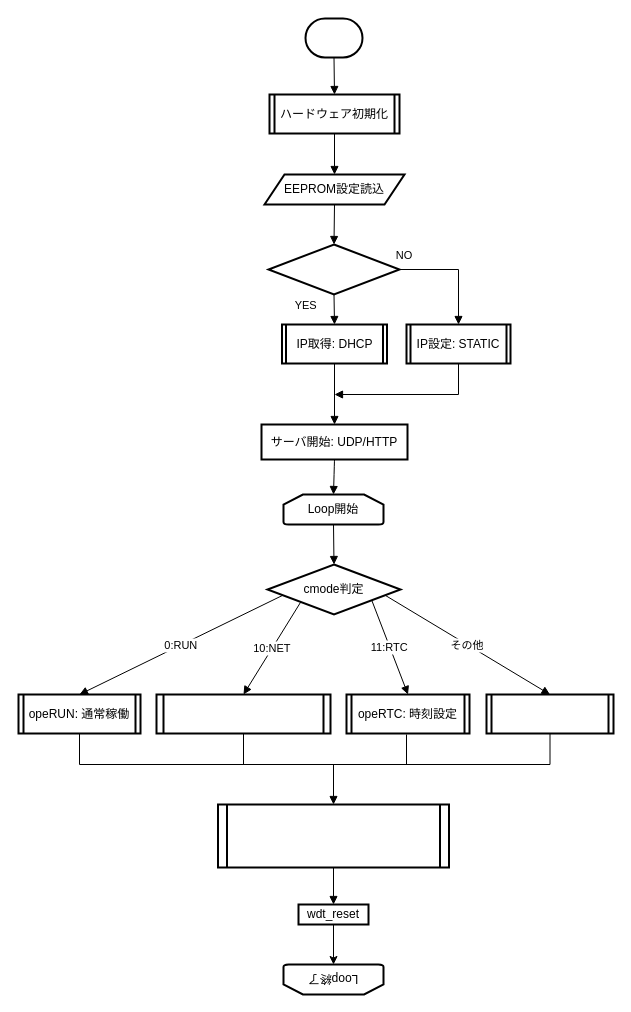
Image size: 631x1012. Some labels were removed from this diagram. Here are the shapes that lost their labels. From the top down, the centre of each, then its label:
At point (333, 37): "開始".
At point (333, 269): "DHCP有効?".
At point (243, 713): "opeNET: ネットワーク設定".
At point (549, 713): "他モード: EEPROM".
At point (333, 835): "packetProc: 共通パケット処理".
